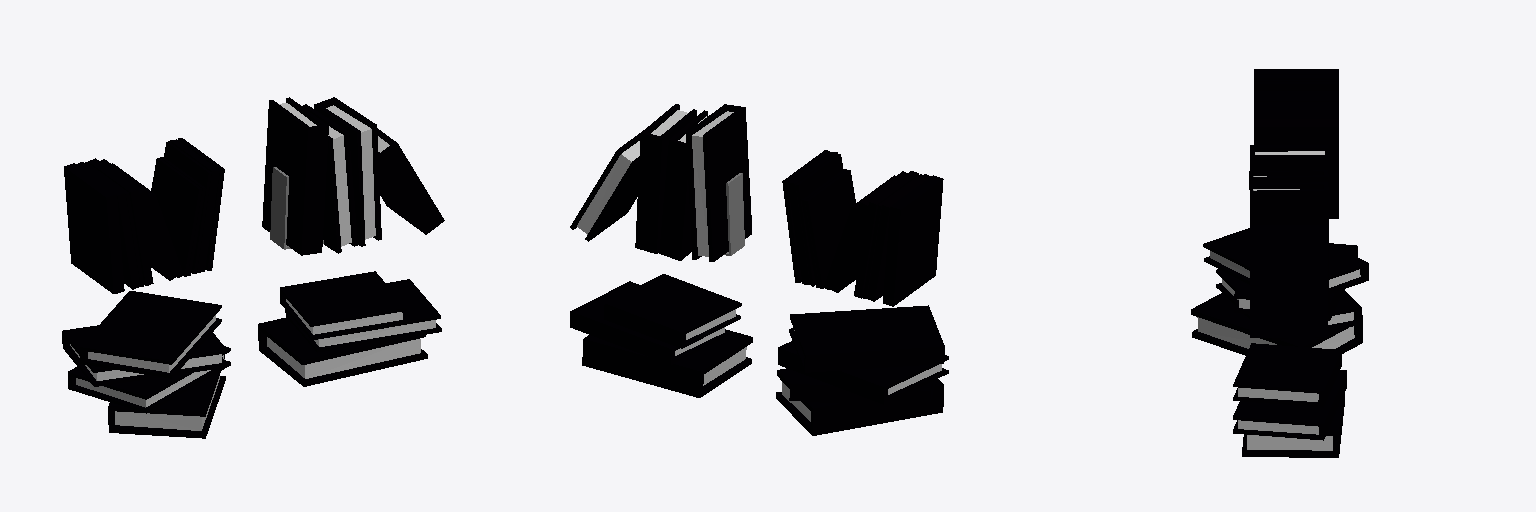
The model's file is Books.obj.
3 renders of one model, left to right at view 1: azimuth 30°, elevation 25°; view 2: azimuth 150°, elevation 25°; view 3: azimuth 270°, elevation 25°, orthographic.
Visible parts, largest first — view 1: Cube.056_Cube.079, Cube.048_Cube.064, Cube.046_Cube.062, Cube.044_Cube.060, Cube.047_Cube.003, Cube.053_Cube.076, Cube.042_Cube.058, Cube.041_Cube.057, Cube.043_Cube.059, Cube.018_Cube.025, Cube.054_Cube.077, Cube.045_Cube.061 (+9 smaller); view 2: Cube.056_Cube.079, Cube.048_Cube.064, Cube.046_Cube.062, Cube.044_Cube.060, Cube.047_Cube.003, Cube.042_Cube.058, Cube.053_Cube.076, Cube.055_Cube.078, Cube.043_Cube.059, Cube.045_Cube.061, Cube.041_Cube.057, Cube.018_Cube.025 (+9 smaller); view 3: Cube.043_Cube.059, Cube.046_Cube.062, Cube.053_Cube.076, Cube.045_Cube.061, Cube.042_Cube.058, Cube.056_Cube.079, Cube.031_Cube.017, Cube.044_Cube.060, Cube.048_Cube.064, Cube.016_Cube.023, Cube.054_Cube.077, Cube.005_Cube.020 (+3 smaller).
Part boxes in pixels (bbox=[...]): Cube.056_Cube.079: bbox=[80, 291, 221, 378]; Cube.048_Cube.064: bbox=[262, 97, 328, 255]; Cube.046_Cube.062: bbox=[280, 271, 407, 339]; Cube.044_Cube.060: bbox=[258, 317, 427, 386]; Cube.047_Cube.003: bbox=[64, 163, 124, 293]; Cube.053_Cube.076: bbox=[108, 355, 225, 438]; Cube.042_Cube.058: bbox=[314, 97, 381, 246]; Cube.041_Cube.057: bbox=[302, 104, 357, 253]; Cube.043_Cube.059: bbox=[377, 128, 444, 234]; Cube.018_Cube.025: bbox=[151, 158, 201, 276]; Cube.054_Cube.077: bbox=[68, 346, 230, 413]; Cube.045_Cube.061: bbox=[285, 279, 441, 352]; Cube.056_Cube.079: bbox=[789, 305, 944, 372]; Cube.048_Cube.064: bbox=[686, 104, 751, 261]; Cube.046_Cube.062: bbox=[604, 274, 741, 348]; Cube.044_Cube.060: bbox=[582, 329, 752, 397]; Cube.047_Cube.003: bbox=[883, 175, 943, 306]; Cube.042_Cube.058: bbox=[635, 104, 696, 253]; Cube.053_Cube.076: bbox=[776, 368, 943, 435]; Cube.055_Cube.078: bbox=[778, 341, 948, 404]; Cube.043_Cube.059: bbox=[570, 133, 640, 241]; Cube.045_Cube.061: bbox=[570, 281, 730, 364]; Cube.041_Cube.057: bbox=[659, 110, 707, 260]; Cube.018_Cube.025: bbox=[805, 170, 855, 288]; Cube.043_Cube.059: bbox=[1250, 225, 1327, 337]; Cube.046_Cube.062: bbox=[1233, 343, 1341, 407]; Cube.053_Cube.076: bbox=[1191, 293, 1362, 355]; Cube.045_Cube.061: bbox=[1233, 370, 1346, 440]; Cube.042_Cube.058: bbox=[1249, 182, 1329, 308]; Cube.056_Cube.079: bbox=[1203, 228, 1368, 293]; Cube.031_Cube.017: bbox=[1254, 125, 1338, 218]; Cube.044_Cube.060: bbox=[1242, 393, 1344, 457]; Cube.048_Cube.064: bbox=[1250, 145, 1327, 170]; Cube.016_Cube.023: bbox=[1254, 101, 1338, 118]; Cube.054_Cube.077: bbox=[1216, 269, 1361, 340]; Cube.005_Cube.020: bbox=[1254, 89, 1338, 100].
Bounding box in the file's own units: 2.95 × 2.06 × 1.29.